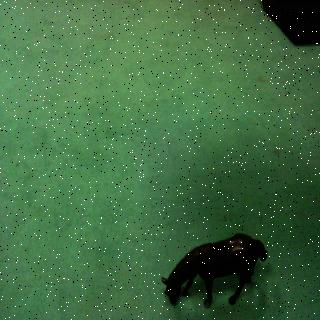horse: (160, 228, 270, 312)
